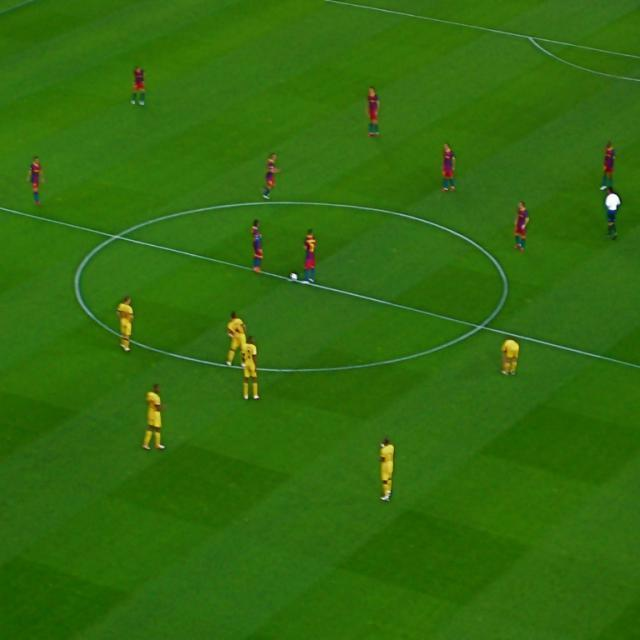football: (289, 269, 302, 282)
